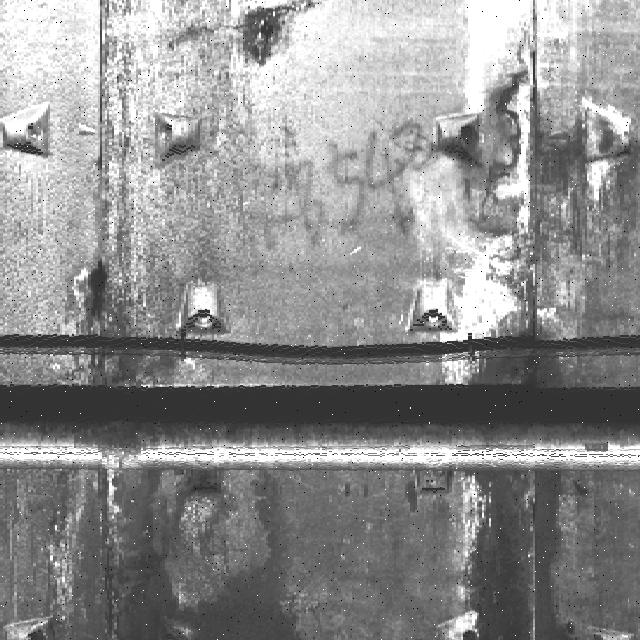leakage: (440, 308, 618, 639), (11, 455, 301, 639), (54, 5, 191, 385)
